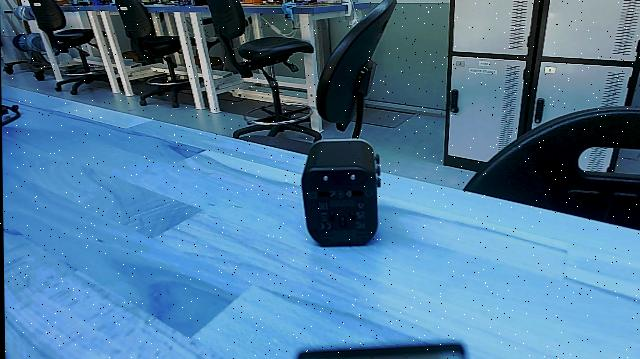adapter: (300, 134, 385, 258)
